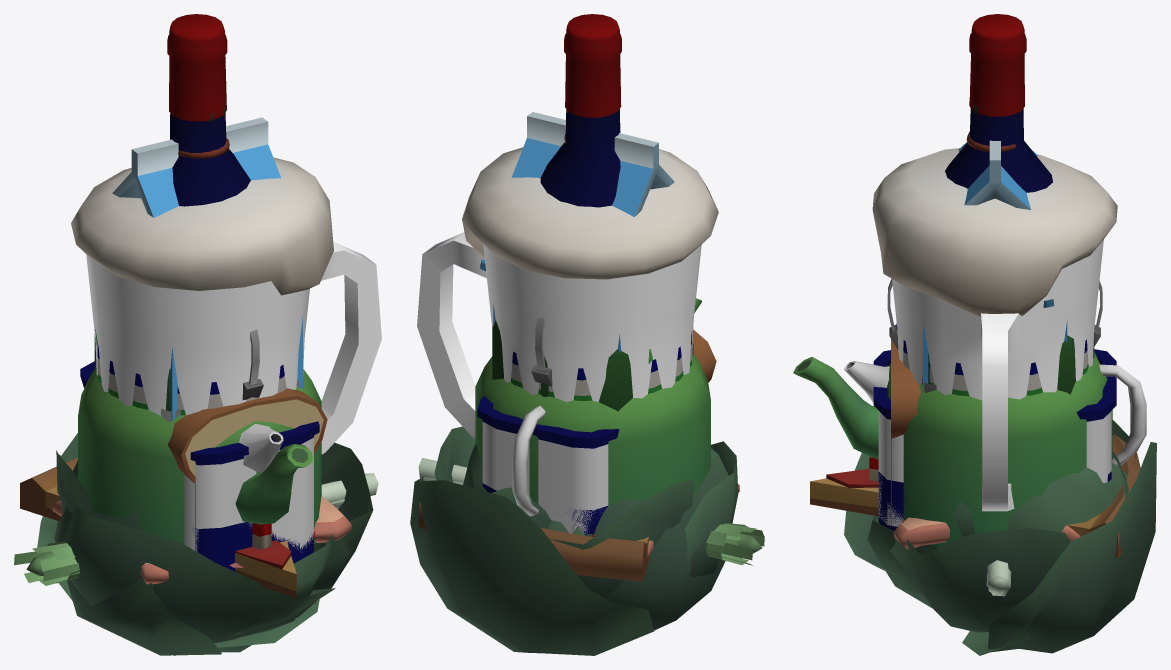
File: Everything Library - consumables.fbx
3 renders of one model, left to right at view 1: azimuth 30°, elevation 25°; view 2: azimuth 150°, elevation 25°; view 3: azimuth 270°, elevation 25°, orthographic. The views are drawn at different scales.
Parts seen in each view (by area): view 1: transp.004, base.018, Kettle, alt3, alt1.001, color.001, Milk, color.005, LoafOfBread, alt2.001, refl.006, PizzaSlice (+7 smaller); view 2: transp.004, alt2.001, base.018, Kettle, alt1.001, alt3, color.001, refl.006, color.005, Milk, PizzaSlice, refl.003 (+7 smaller); view 3: alt2.001, base.018, Kettle, transp.004, color.005, refl.006, PizzaSlice, color.001, alt1.001, Teapot, Milk, alt3 (+7 smaller).
Boxes of the visible parts, x1=… form: transp.004: x1=86, y1=242, x2=381, y2=454; base.018: x1=71, y1=157, x2=333, y2=295; Kettle: x1=78, y1=329, x2=321, y2=544; alt3: x1=56, y1=450, x2=335, y2=655; alt1.001: x1=54, y1=460, x2=331, y2=655; color.001: x1=184, y1=437, x2=313, y2=553; Milk: x1=112, y1=117, x2=302, y2=420; color.005: x1=167, y1=14, x2=227, y2=121; LoafOfBread: x1=167, y1=388, x2=327, y2=550; alt2.001: x1=37, y1=433, x2=373, y2=652; refl.006: x1=170, y1=112, x2=250, y2=206; PizzaSlice: x1=20, y1=457, x2=296, y2=597; transp.004: x1=417, y1=232, x2=701, y2=438; alt2.001: x1=410, y1=426, x2=653, y2=655; base.018: x1=462, y1=147, x2=718, y2=279; Kettle: x1=475, y1=298, x2=710, y2=505; alt1.001: x1=492, y1=448, x2=728, y2=630; alt3: x1=549, y1=441, x2=738, y2=598; color.001: x1=482, y1=422, x2=608, y2=534; refl.006: x1=540, y1=109, x2=620, y2=207; color.005: x1=564, y1=14, x2=621, y2=117; Milk: x1=493, y1=112, x2=674, y2=353; PizzaSlice: x1=419, y1=502, x2=649, y2=581; refl.003: x1=477, y1=396, x2=619, y2=448; alt2.001: x1=867, y1=442, x2=1156, y2=653; base.018: x1=872, y1=148, x2=1117, y2=316; Kettle: x1=793, y1=278, x2=1112, y2=546; transp.004: x1=892, y1=239, x2=1103, y2=511; color.005: x1=969, y1=14, x2=1026, y2=116; refl.006: x1=945, y1=108, x2=1052, y2=192; PizzaSlice: x1=810, y1=434, x2=1140, y2=558; color.001: x1=878, y1=411, x2=1111, y2=526; alt1.001: x1=867, y1=449, x2=1128, y2=655; Teapot: x1=844, y1=361, x2=1146, y2=466; Milk: x1=923, y1=140, x2=1067, y2=391; alt3: x1=844, y1=420, x2=1135, y2=578.
Size of the model in its own units: 3516 by 6093 by 3308.
